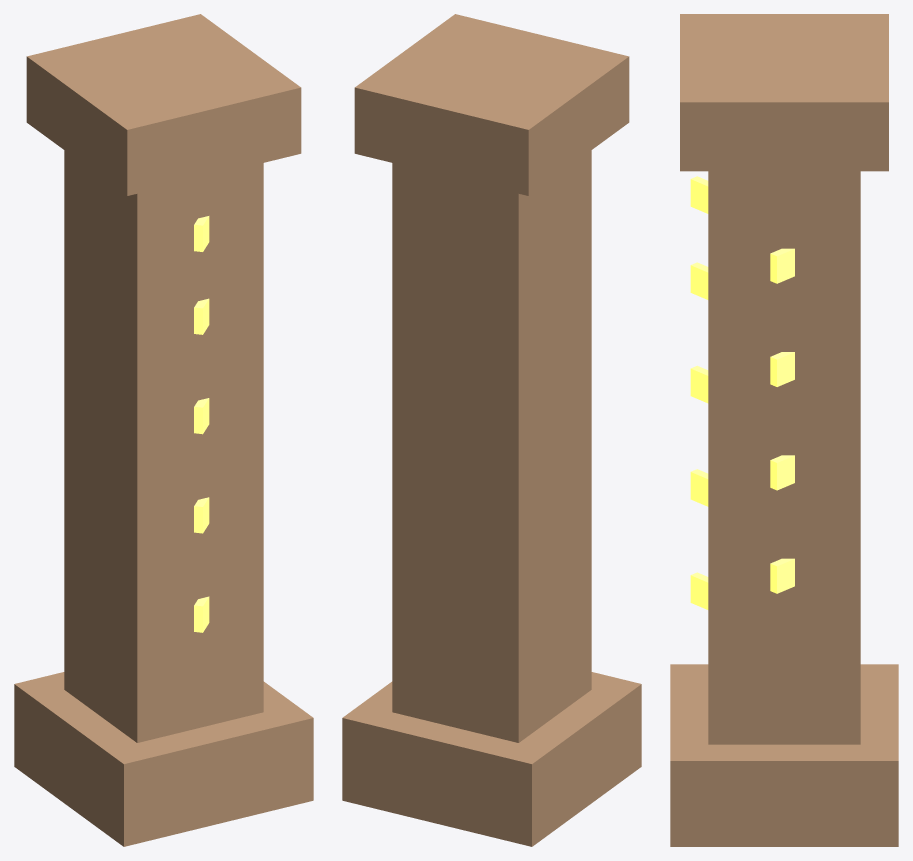
File: AncientPillar_Glyphs.glb
3 renders of one model, left to right at view 1: azimuth 30°, elevation 25°; view 2: azimuth 150°, elevation 25°; view 3: azimuth 270°, elevation 25°, orthographic. The views are drawn at different scales.
Parts seen in each view (by area): view 1: PillarStone, GlyphsAmber; view 2: PillarStone; view 3: PillarStone, GlyphsAmber.
Boxes of the visible parts, left/top/right/bottom form: PillarStone: left=14, top=14, right=313, bottom=846; GlyphsAmber: left=194, top=216, right=209, bottom=632; PillarStone: left=342, top=14, right=641, bottom=846; PillarStone: left=670, top=14, right=898, bottom=846; GlyphsAmber: left=690, top=176, right=794, bottom=609.
Size of the model in its own units: 1.2 by 4.3 by 1.2.
